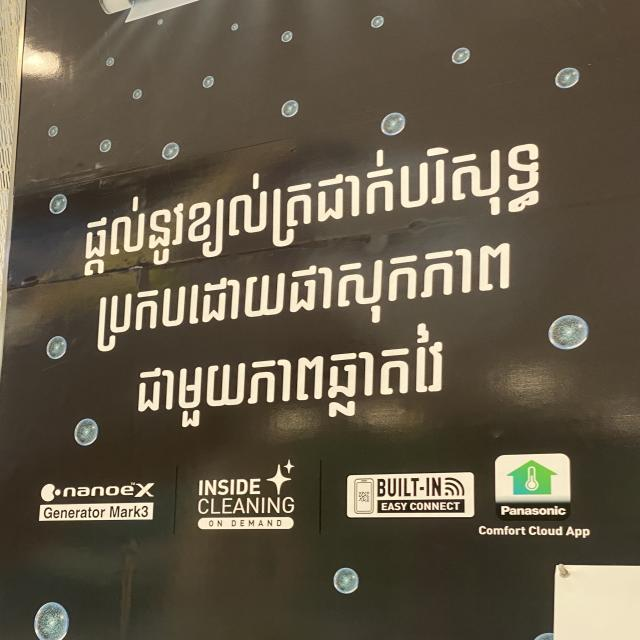893: (139, 502, 151, 520)
Yolov11_80vkh: (71, 119, 567, 286), (87, 228, 527, 359), (130, 317, 458, 435)
